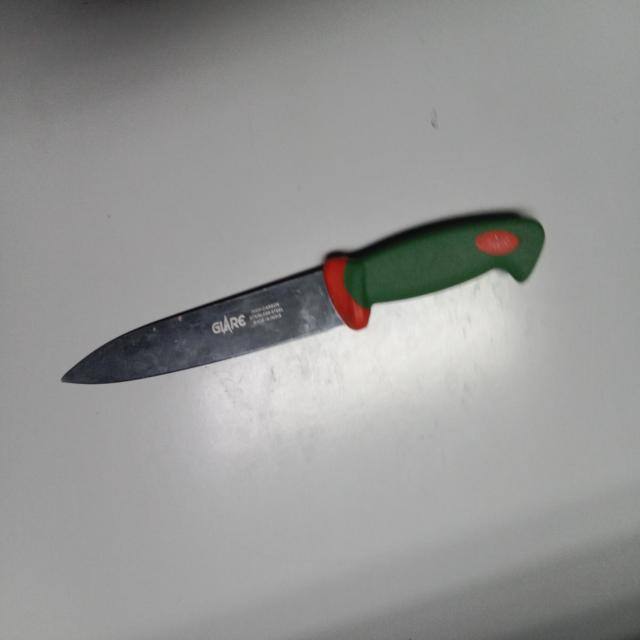Knife: (61, 211, 545, 384)
